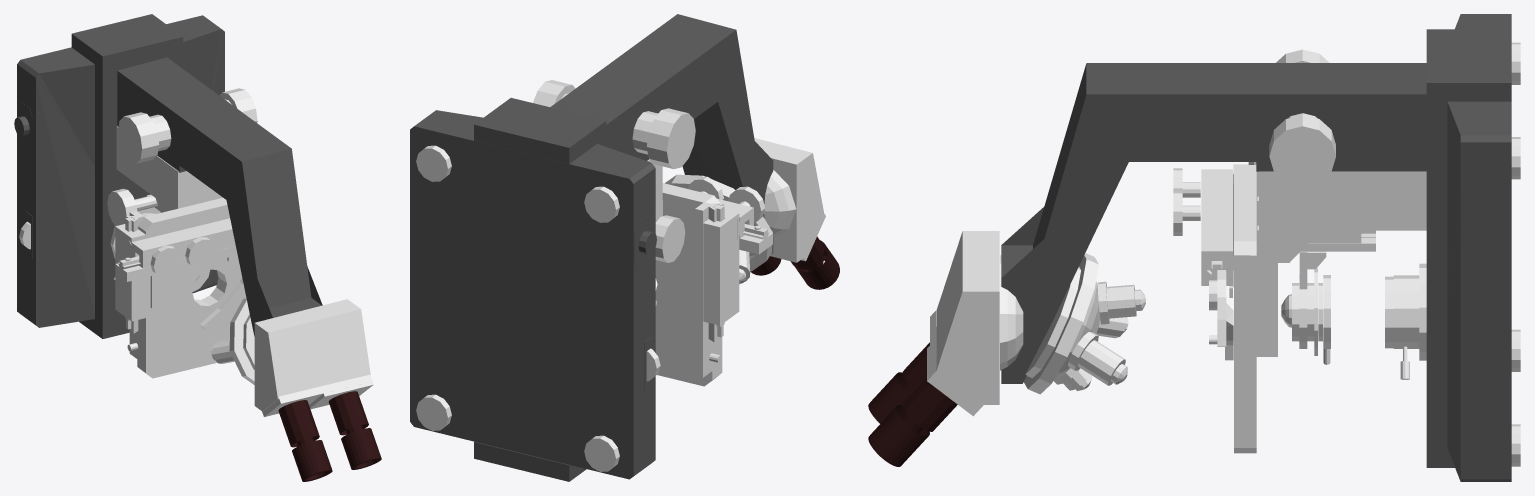
3 renders of one model, left to right at view 1: azimuth 30°, elevation 25°; view 2: azimuth 150°, elevation 25°; view 3: azimuth 270°, elevation 25°, orthographic. The views are drawn at different scales.
Parts seen in each view (by area): view 1: microscope mikroskop; view 2: microscope mikroskop; view 3: microscope mikroskop.
Boxes of the visible parts, x1,y1,x2,y2 form: microscope mikroskop: [14, 14, 381, 481]; microscope mikroskop: [410, 14, 839, 481]; microscope mikroskop: [868, 14, 1520, 481].
Bounding box in the file's own units: 7.33 × 10.16 × 15.35.
